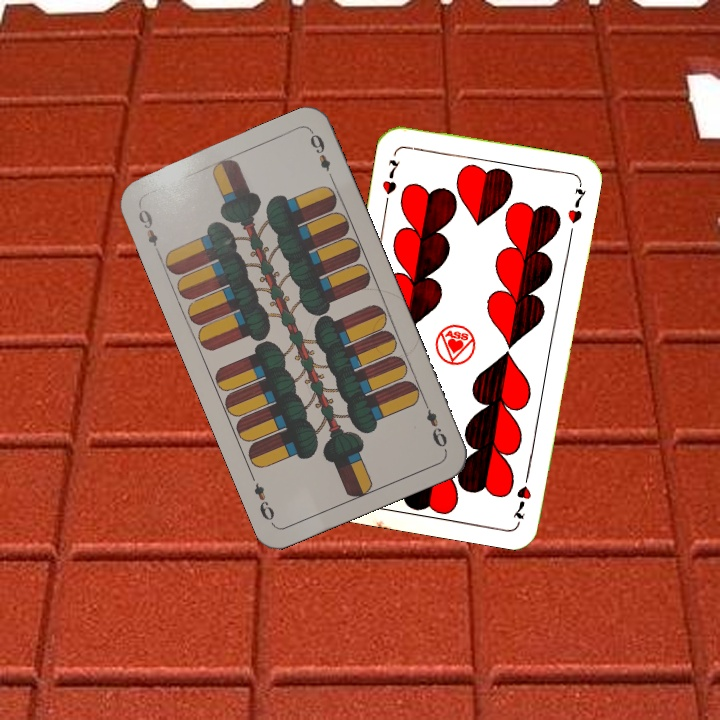E9: (419, 396, 450, 453), (134, 205, 163, 258)
H7: (509, 465, 534, 522), (378, 155, 403, 208)
